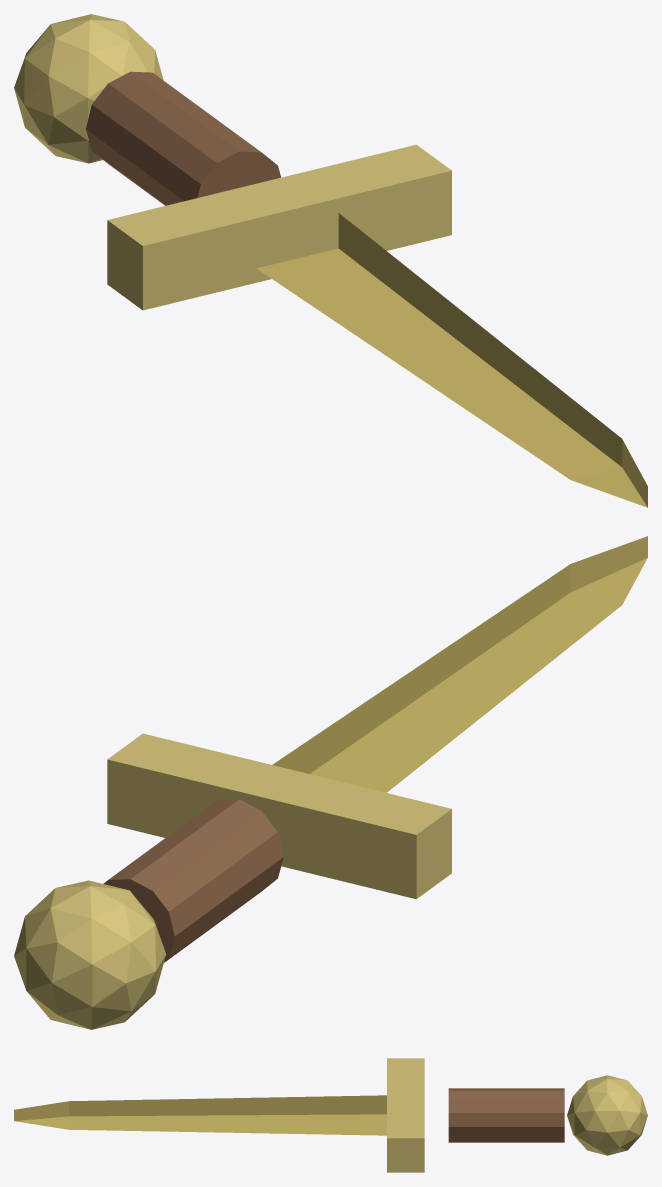
The model's file is golden_dagger.glb.
The picture shows the model from 3 angles, top to bottom: view 1: azimuth 30°, elevation 25°; view 2: azimuth 150°, elevation 25°; view 3: azimuth 270°, elevation 25°; orthographic projection. The views are drawn at different scales.
Visible parts, largest first — view 1: sword_0_1, sword_0_0, sword_0_2, sword_0_3; view 2: sword_0_1, sword_0_0, sword_0_3, sword_0_2; view 3: sword_0_0, sword_0_2, sword_0_3, sword_0_1.
Part boxes in pixels (x1,y1,x2,y2): sword_0_1: [107, 144, 451, 310]; sword_0_0: [256, 213, 647, 507]; sword_0_2: [86, 71, 280, 205]; sword_0_3: [14, 14, 163, 163]; sword_0_1: [107, 733, 451, 899]; sword_0_0: [272, 536, 647, 792]; sword_0_3: [14, 880, 166, 1029]; sword_0_2: [103, 799, 283, 962]; sword_0_0: [14, 1095, 386, 1135]; sword_0_2: [448, 1088, 564, 1142]; sword_0_3: [567, 1075, 647, 1155]; sword_0_1: [387, 1058, 424, 1172].
Bounding box in the file's own units: 0.904 × 0.3857 × 3.02.
